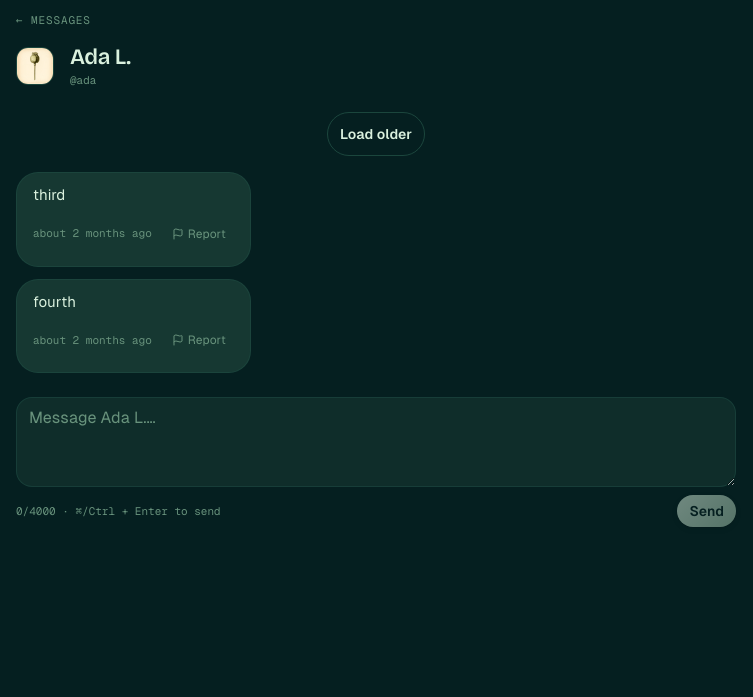
ConversationPage (todo 339) › Load older prepends the next (older) page
This screenshot has width=753, height=697.
Click the button "Load older" at (376, 134), box [327,112,425,156]
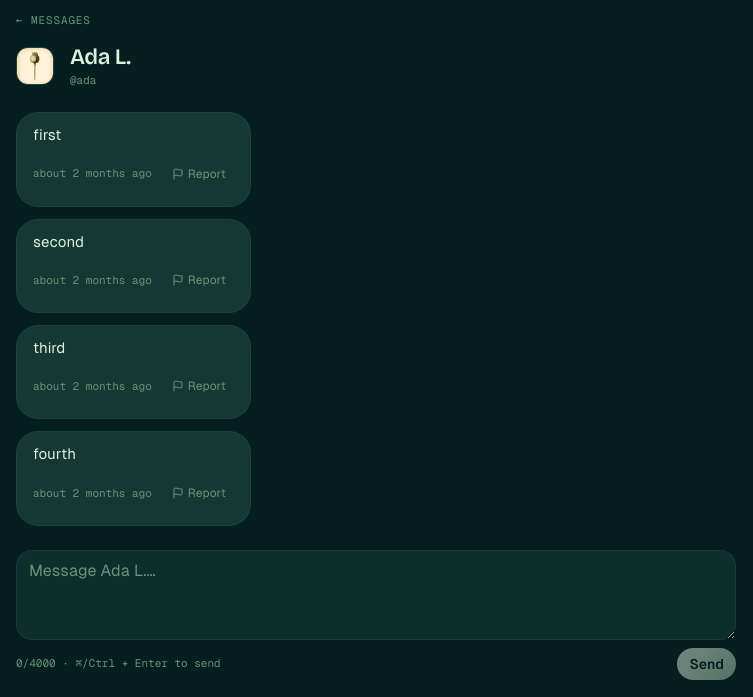
Result: the number of list items is 4 at [16,112,251,207]; [16,219,251,313]; [16,325,251,419]; [16,431,251,526]
Result: the button "Load older" is gone
